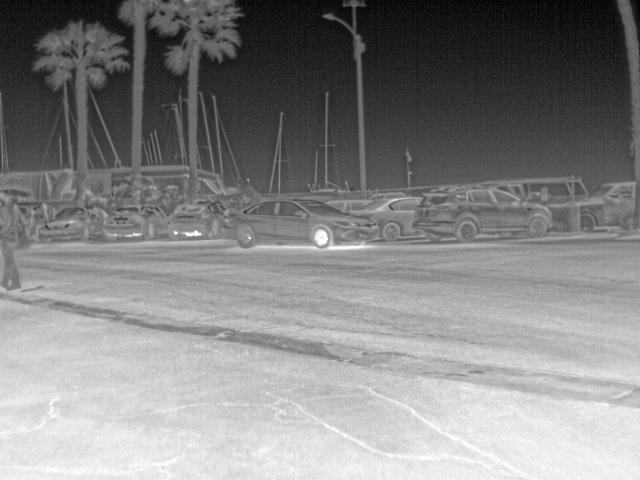car: (414, 183, 552, 237), (230, 198, 370, 246), (353, 196, 427, 239), (580, 178, 635, 234), (170, 198, 229, 241), (106, 203, 168, 243), (42, 207, 107, 244), (515, 176, 592, 204), (330, 199, 373, 211)
person: (2, 190, 26, 291)
